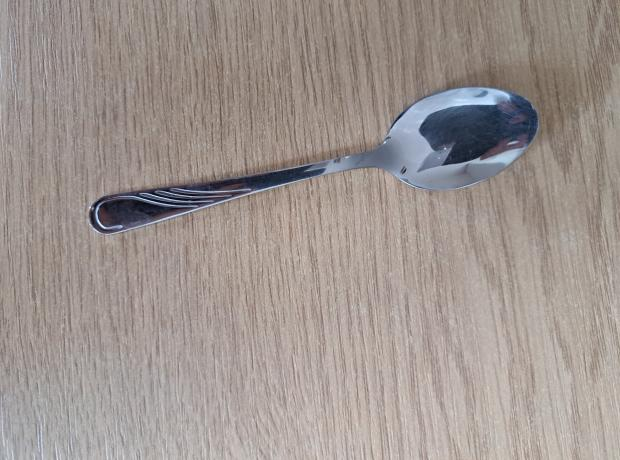metal: (86, 85, 542, 240)
